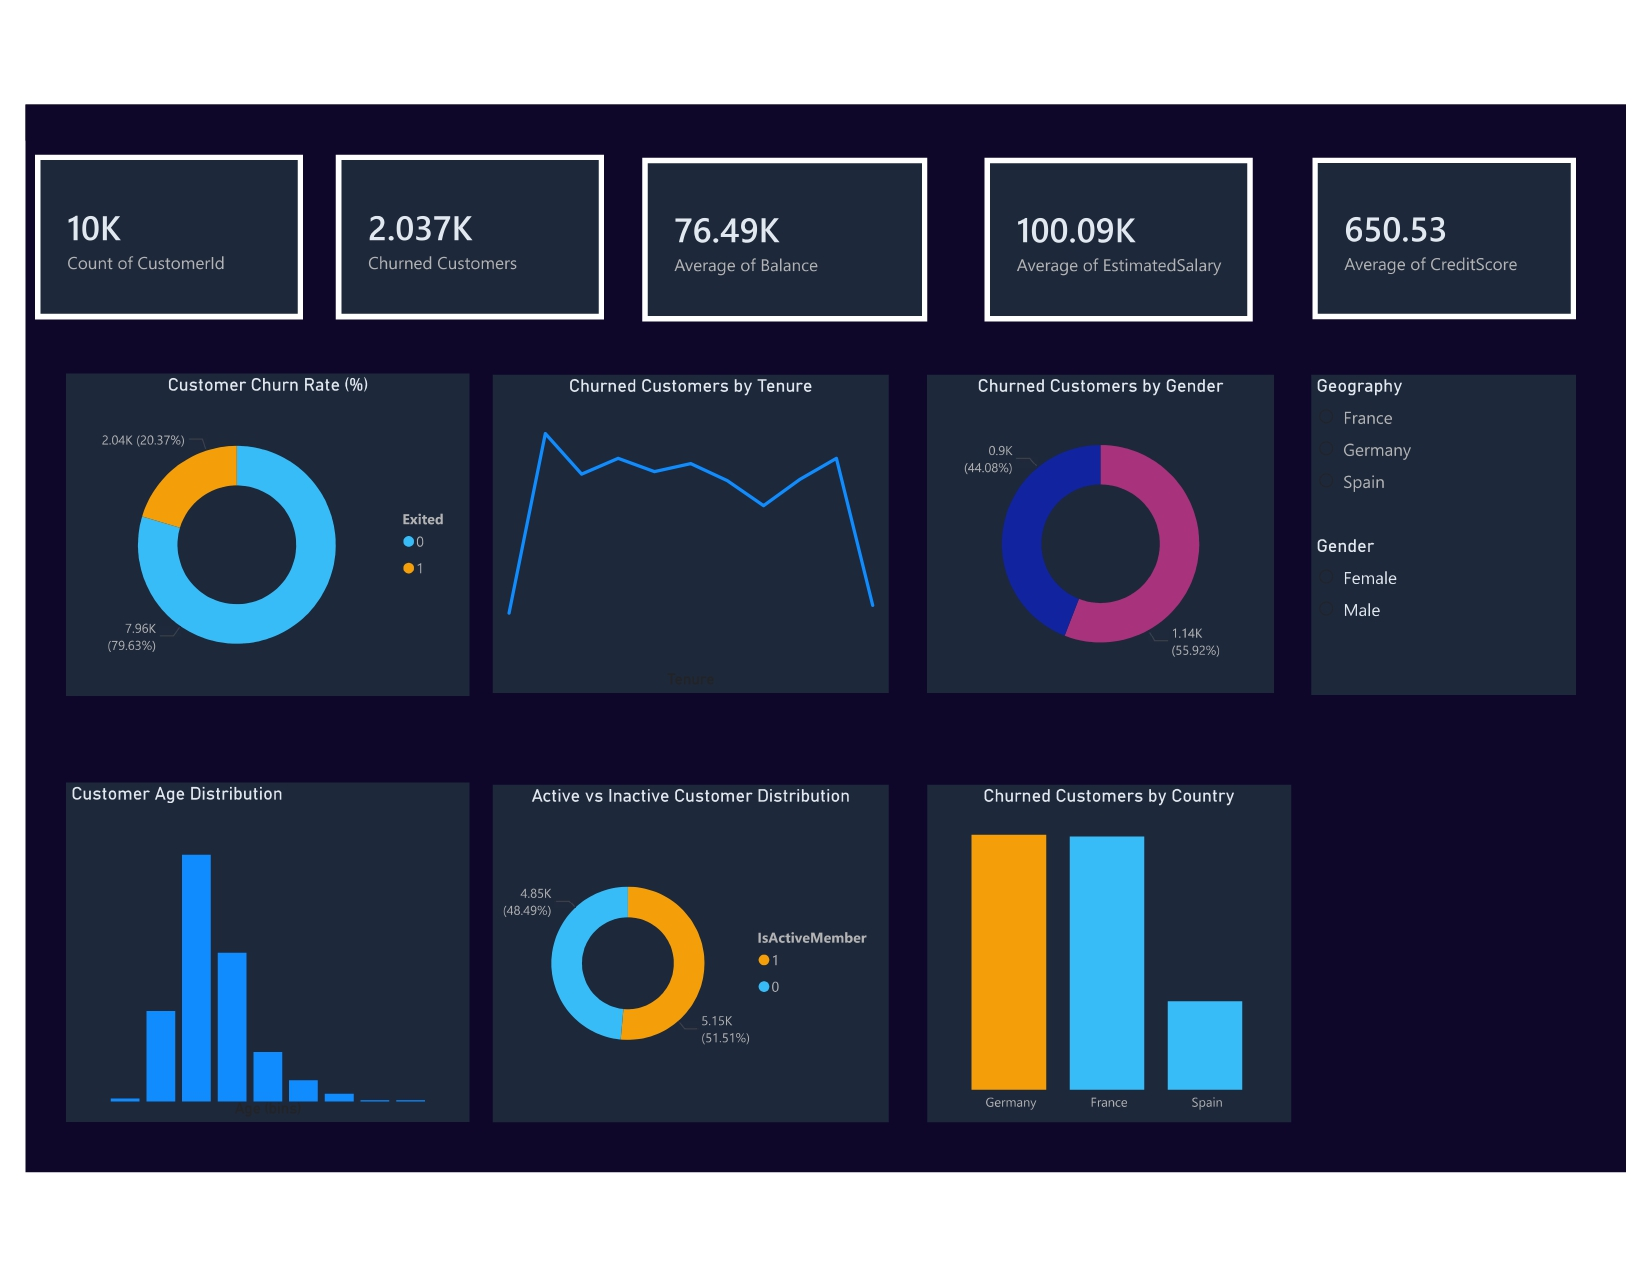

Layout of this report page (visuals, bound fields, positions):
{"tool":"powerbi","page":{"name":"Page 2","canvas":[1500,1000],"ordinal":1},"visuals":[{"type":"cardVisual","fields":{"Data":["CountNonNull(Churn_Modelling.CustomerId)"]},"box":[9,47.4,250.8,153.6],"z":0},{"type":"cardVisual","fields":{"Data":["Avg(Churn_Modelling.CreditScore)"]},"box":[1206.4,49.7,246.2,151.4],"z":1000},{"type":"cardVisual","fields":{"Data":["Avg(Churn_Modelling.EstimatedSalary)"]},"box":[899.1,49.7,250.8,153.6],"z":2000},{"type":"cardVisual","fields":{"Data":["Avg(Churn_Modelling.Balance)"]},"box":[578.3,49.7,266.6,153.6],"z":3000},{"type":"cardVisual","fields":{"Data":["CountNonNull(Churn_Modelling.CustomerId)"]},"box":[291.4,47.4,250.8,153.6],"z":4000},{"type":"donutChart","title":"Customer Churn Rate (%)","fields":{"Y":["CountNonNull(Churn_Modelling.CustomerId)"],"Category":["Churn_Modelling.Exited"]},"box":[38,252,378,302],"z":5000},{"type":"clusteredColumnChart","title":"Churned Customers by Country","fields":{"Y":["CountNonNull(Churn_Modelling.CustomerId)"],"Category":["Churn_Modelling.Geography"]},"box":[844.9,637.1,341.1,316.3],"z":6000},{"type":"donutChart","title":"Churned Customers by Gender","fields":{"Category":["Churn_Modelling.Gender"],"Y":["CountNonNull(Churn_Modelling.CustomerId)"]},"box":[844.9,253,325.3,298.2],"z":7000},{"type":"lineChart","title":"Churned Customers by Tenure ","fields":{"Category":["Churn_Modelling.Tenure"],"Y":["CountNonNull(Churn_Modelling.CustomerId)"]},"box":[438.3,253,370.5,298.2],"z":8000},{"type":"donutChart","title":"Active vs Inactive Customer Distribution","fields":{"Category":["Churn_Modelling.IsActiveMember"],"Y":["CountNonNull(Churn_Modelling.CustomerId)"]},"box":[438.3,637.1,370.5,316.3],"z":9000},{"type":"listSlicer","fields":{"Values":["Churn_Modelling.Geography"]},"box":[1205,252.5,247.5,150],"z":10000},{"type":"listSlicer","fields":{"Values":["Churn_Modelling.Gender"]},"box":[1205,403,248,150],"z":11000},{"type":"clusteredColumnChart","title":"Customer Age Distribution","fields":{"Category":["Churn_Modelling.Age (bins)"],"Y":["CountNonNull(Churn_Modelling.CustomerId)"]},"box":[38.4,634.8,377.3,318.5],"z":12000}]}

Visuals, with their boxes on the page's 1500x1000 design canvas (x1, y1, x2, y2). These are canvas units, not pixel positions in the 1650x1275 screenshot, which may show the page scaled, cropped or inside an application window:
cardVisual - CountNonNull(Churn_Modelling.CustomerId): box(9, 47, 260, 201)
cardVisual - Avg(Churn_Modelling.CreditScore): box(1206, 50, 1453, 201)
cardVisual - Avg(Churn_Modelling.EstimatedSalary): box(899, 50, 1150, 203)
cardVisual - Avg(Churn_Modelling.Balance): box(578, 50, 845, 203)
cardVisual - CountNonNull(Churn_Modelling.CustomerId): box(291, 47, 542, 201)
"Customer Churn Rate (%)" donutChart: box(38, 252, 416, 554)
"Churned Customers by Country" clusteredColumnChart: box(845, 637, 1186, 953)
"Churned Customers by Gender" donutChart: box(845, 253, 1170, 551)
"Churned Customers by Tenure " lineChart: box(438, 253, 809, 551)
"Active vs Inactive Customer Distribution" donutChart: box(438, 637, 809, 953)
listSlicer - Churn_Modelling.Geography: box(1205, 252, 1452, 402)
listSlicer - Churn_Modelling.Gender: box(1205, 403, 1453, 553)
"Customer Age Distribution" clusteredColumnChart: box(38, 635, 416, 953)
